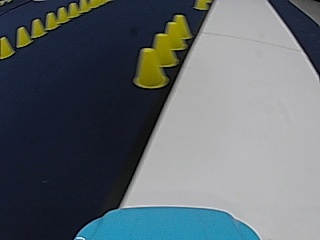cone: (132, 46, 167, 88), (150, 32, 176, 66), (162, 20, 184, 50), (170, 14, 191, 40), (16, 26, 31, 47), (0, 36, 14, 58), (30, 18, 44, 37), (44, 11, 57, 29), (56, 7, 67, 22), (67, 2, 78, 17), (194, 0, 207, 10)
